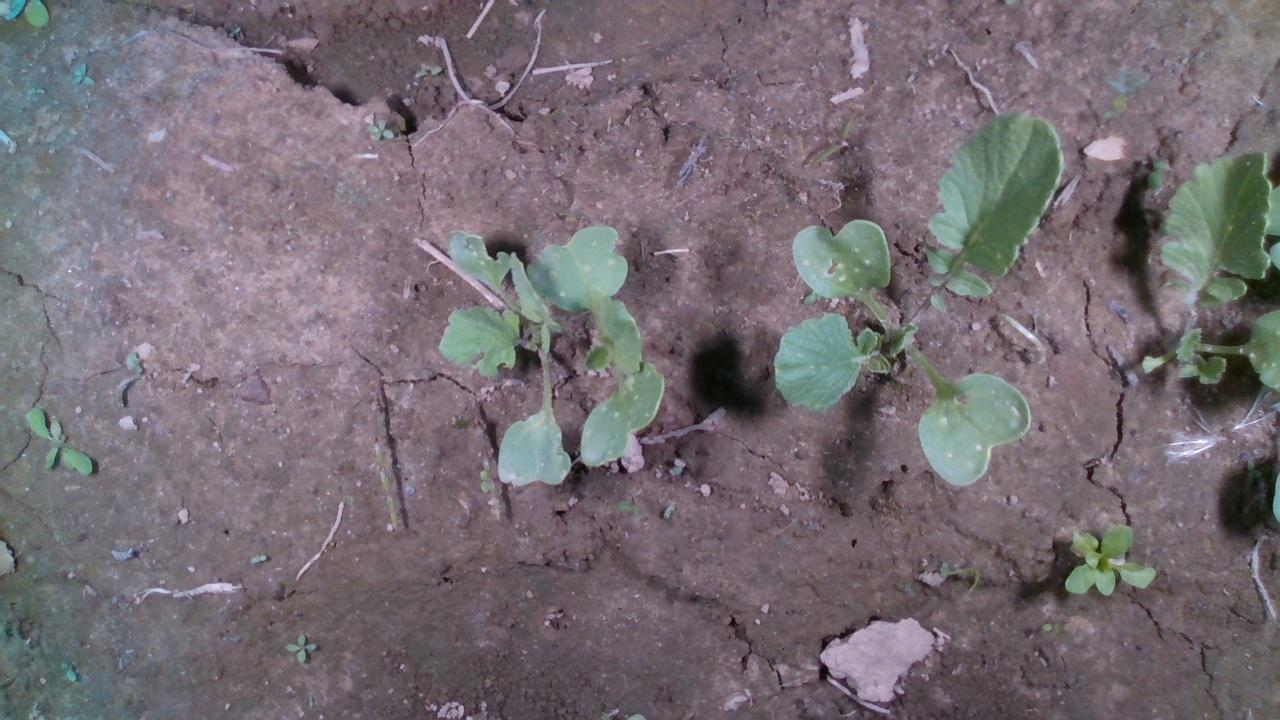weed: (23, 406, 93, 476), (810, 106, 858, 166), (283, 631, 315, 663), (363, 116, 393, 142)
